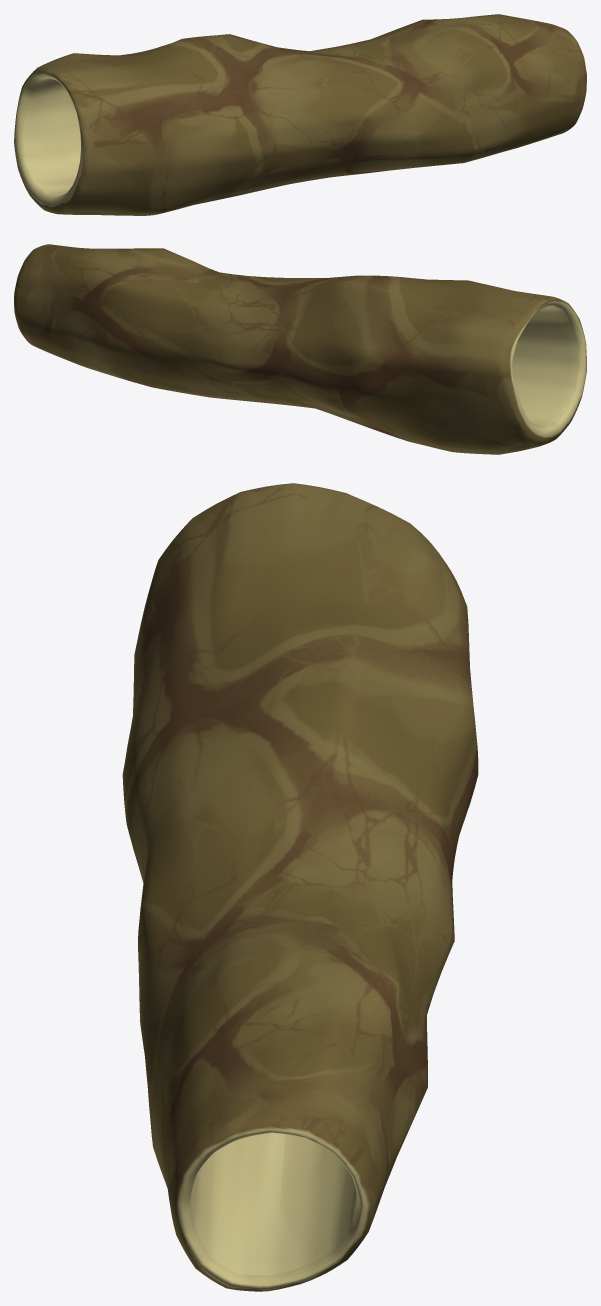
The model's file is FullLogDOESITWORK.fbx.
3 renders of one model, top to bottom at view 1: azimuth 30°, elevation 25°; view 2: azimuth 150°, elevation 25°; view 3: azimuth 270°, elevation 25°, orthographic. The views are drawn at different scales.
Parts seen in each view (by area): view 1: pCylinder6; view 2: pCylinder6; view 3: pCylinder6.
Part boxes in pixels (<box>): pCylinder6: <box>14,14,586,215</box>; pCylinder6: <box>14,244,586,454</box>; pCylinder6: <box>122,483,478,1291</box>.
Size of the model in its own units: 585 by 184 by 172.
Materials: 1 (1 with a texture image).
